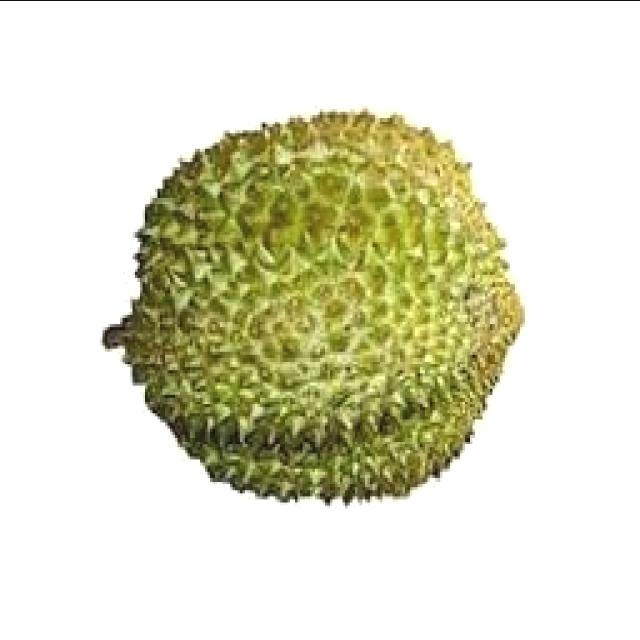agrume: (93, 103, 545, 533)
